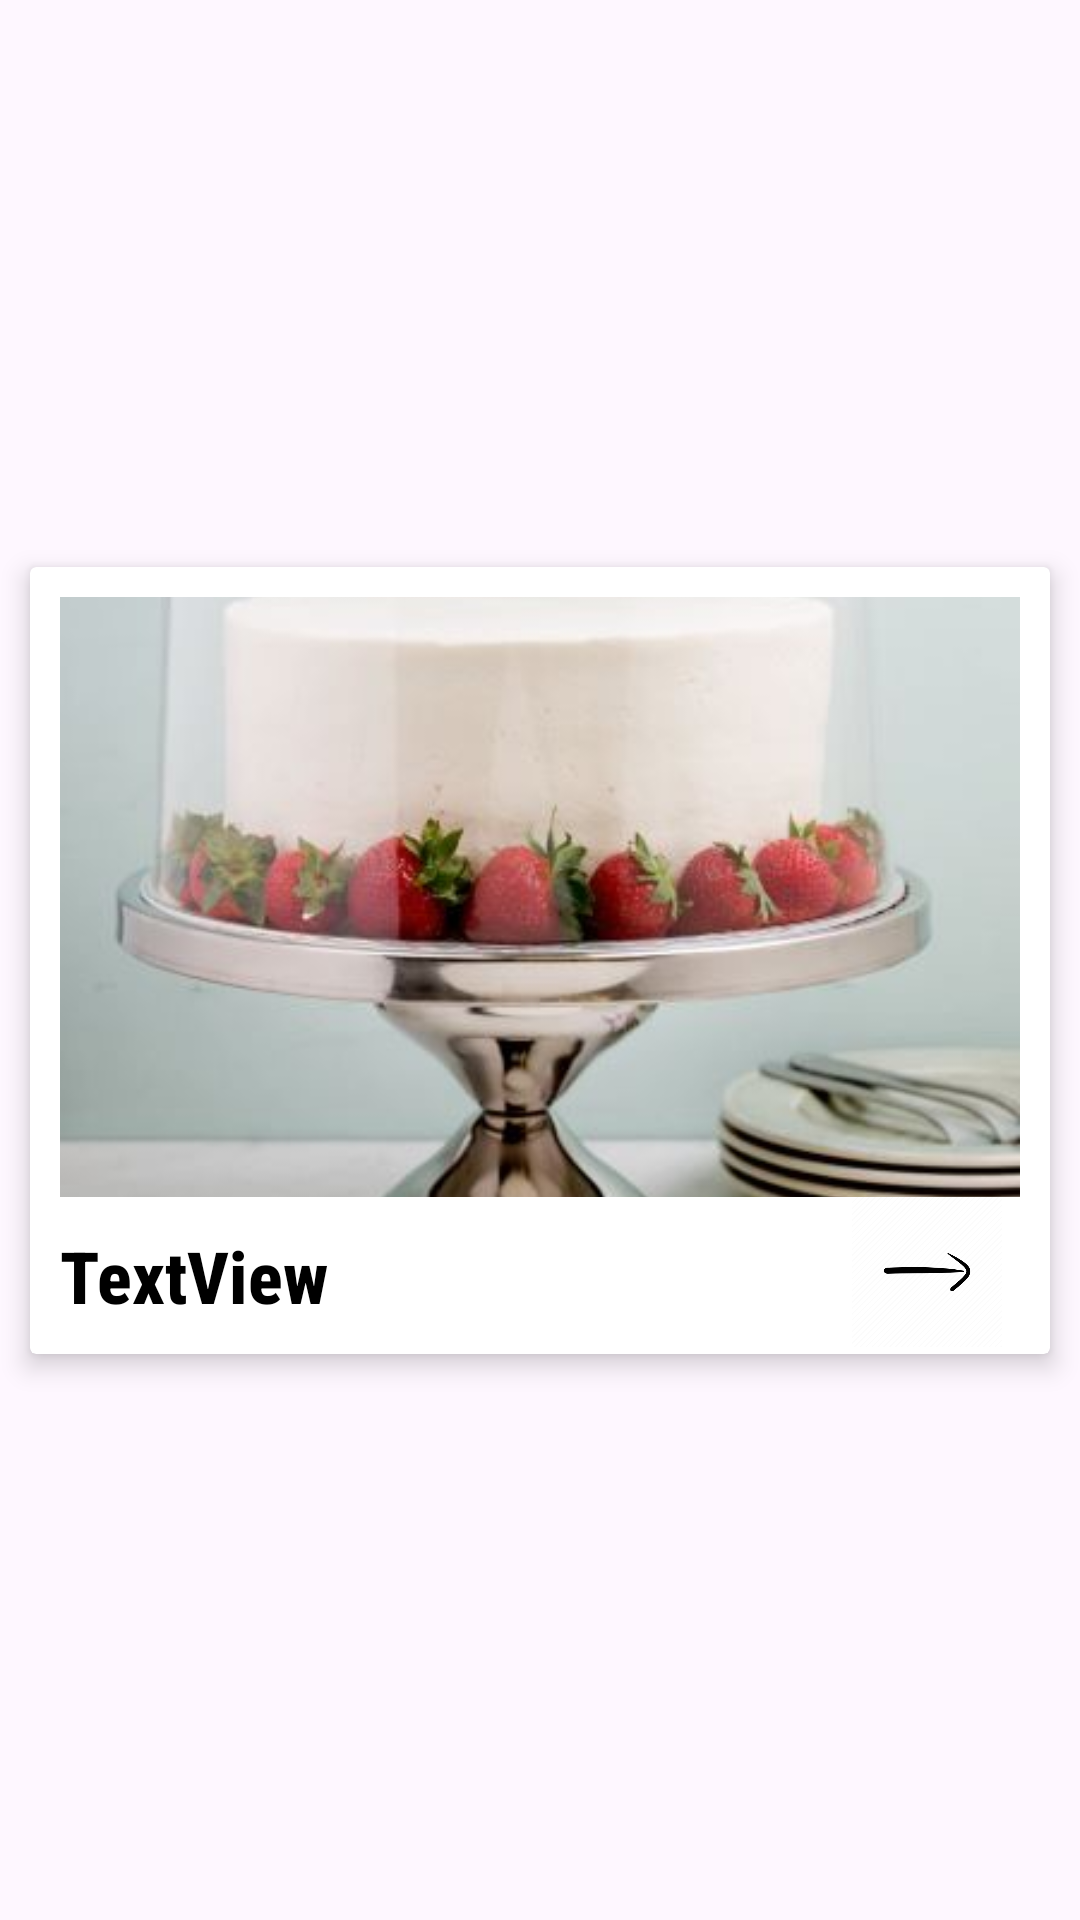

Icons on this 1080px x 1920px Android screen, each with its box as (left=x1, top=y1, right=x2, bottom=y2):
next arrow: (left=884, top=1253, right=970, bottom=1291)
